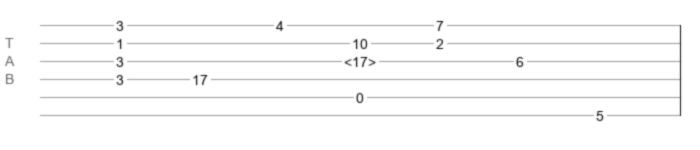0: (356, 90, 364, 100)
1: (116, 36, 124, 46)
10: (352, 36, 368, 46)
17: (192, 72, 208, 82)
2: (436, 36, 444, 46)
3: (116, 54, 124, 64), (116, 18, 124, 28), (116, 72, 124, 82)
4: (276, 18, 284, 28)
5: (596, 108, 604, 118)
6: (516, 54, 524, 64)
7: (436, 18, 444, 28)
harmonic: (344, 54, 376, 64)
